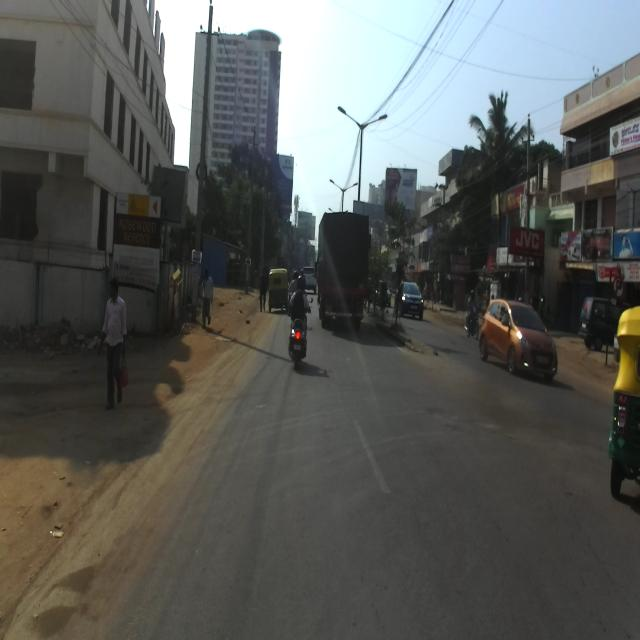car ahead at: (478, 289, 563, 385)
person ahead at: (100, 273, 133, 407)
